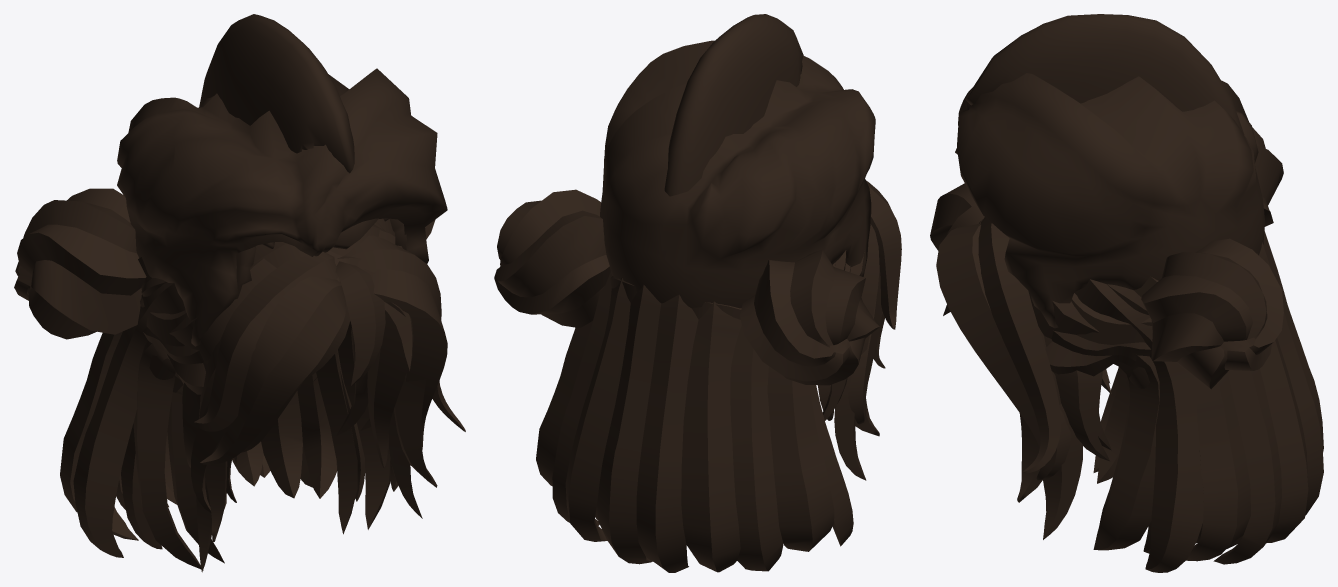
Rendered from hair.glb.
3 views of the same model, side by side, from view 1: azimuth 30°, elevation 25°; view 2: azimuth 150°, elevation 25°; view 3: azimuth 270°, elevation 25° (orthographic). The views are drawn at different scales.
Visible parts, largest first — view 1: hair/hair_long/male, hair/hair_curly/male, hair/hair_bun/male, hair/hair_ponytail/male, hair/hair_mohawk/male, hair/hair_short/male; view 2: hair/hair_long/male, hair/hair_curly/male, hair/hair_bun/male, hair/hair_mohawk/male; view 3: hair/hair_long/male, hair/hair_curly/male, hair/hair_bun/male, hair/hair_mohawk/male, hair/hair_ponytail/male.
Boxes of the visible parts, x1=… form: hair/hair_long/male: x1=60, y1=218, x2=465, y2=570; hair/hair_curly/male: x1=117, y1=68, x2=447, y2=346; hair/hair_bun/male: x1=14, y1=188, x2=437, y2=572; hair/hair_ponytail/male: x1=116, y1=302, x2=413, y2=563; hair/hair_mohawk/male: x1=199, y1=14, x2=354, y2=173; hair/hair_short/male: x1=235, y1=218, x2=406, y2=299; hair/hair_long/male: x1=536, y1=180, x2=901, y2=572; hair/hair_curly/male: x1=600, y1=40, x2=875, y2=308; hair/hair_bun/male: x1=494, y1=189, x2=879, y2=480; hair/hair_mohawk/male: x1=664, y1=14, x2=803, y2=196; hair/hair_long/male: x1=930, y1=183, x2=1323, y2=572; hair/hair_curly/male: x1=955, y1=73, x2=1264, y2=328; hair/hair_bun/male: x1=943, y1=127, x2=1283, y2=539; hair/hair_mohawk/male: x1=965, y1=14, x2=1244, y2=136; hair/hair_ponytail/male: x1=1095, y1=370, x2=1242, y2=553.
Bounding box in the file's own units: 0.3015 × 0.3889 × 0.2705.
